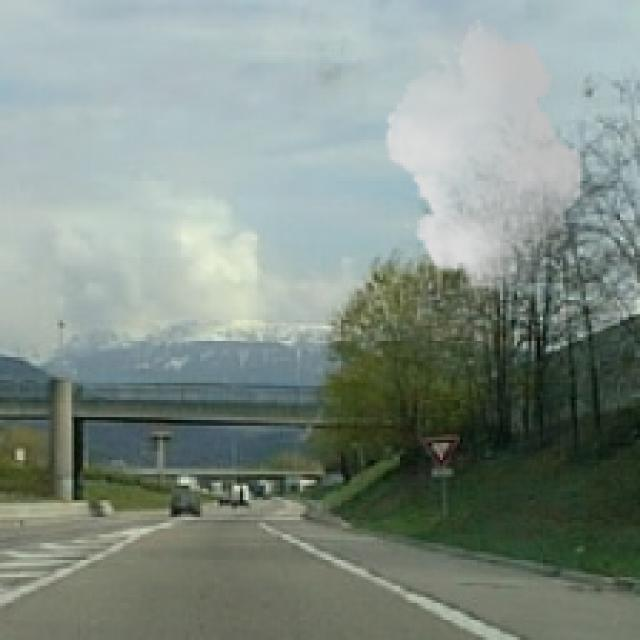smoke: (377, 17, 592, 294)
